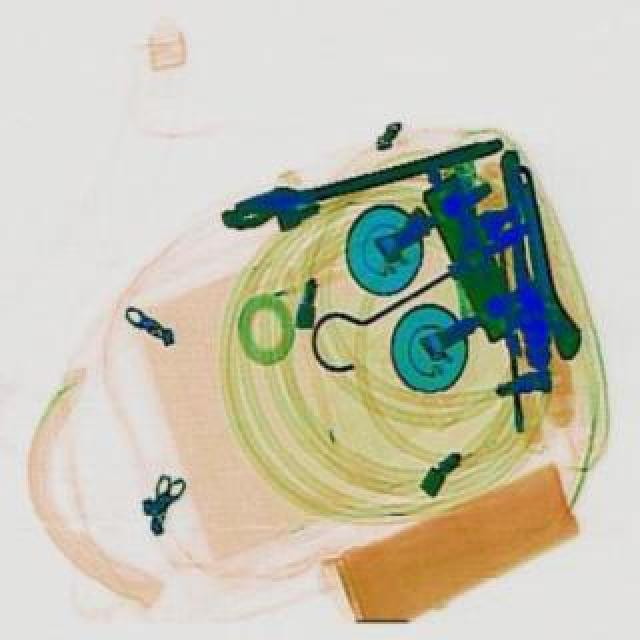scissors: (212, 128, 504, 234), (486, 158, 586, 370)
